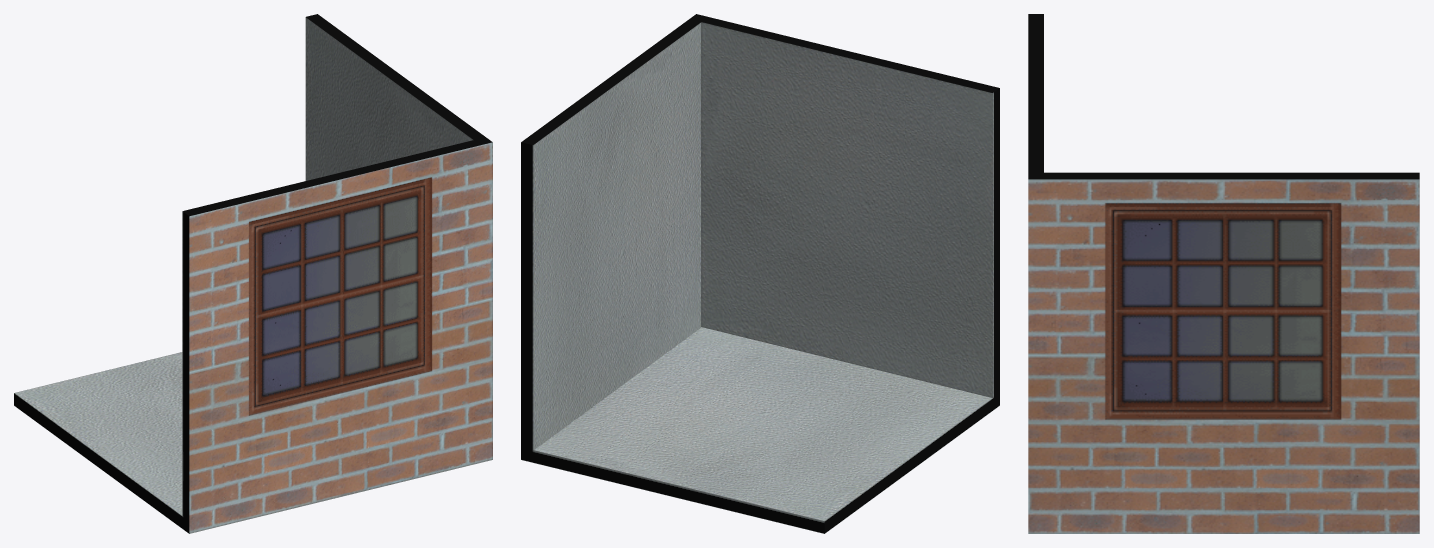
The model's file is wallcorner.fbx.
3 renders of one model, left to right at view 1: azimuth 30°, elevation 25°; view 2: azimuth 150°, elevation 25°; view 3: azimuth 270°, elevation 25°, orthographic. The views are drawn at different scales.
Parts seen in each view (by area): view 1: wallcorner; view 2: wallcorner; view 3: wallcorner.
Part boxes in pixels (x1,y1,x2,y2): wallcorner: [14, 14, 492, 533]; wallcorner: [521, 14, 999, 533]; wallcorner: [1028, 14, 1419, 533].
Size of the model in its own units: 2.5 by 2.5 by 2.5.
Materials: 1 (1 with a texture image).
